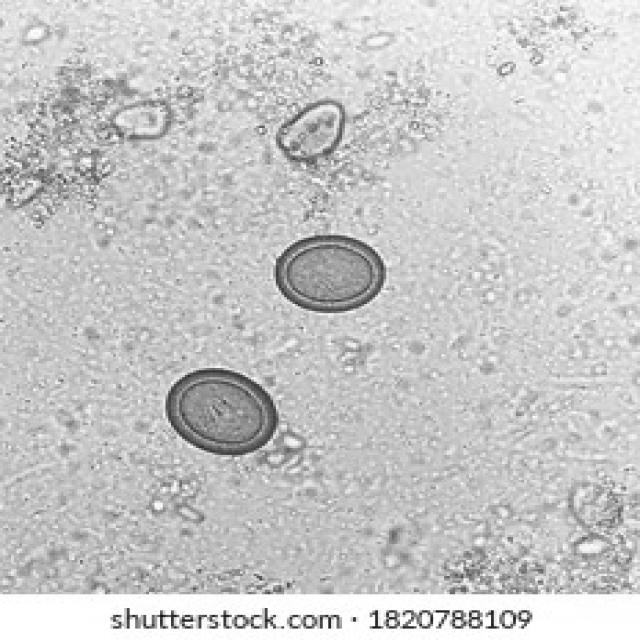Taenia Sp: (145, 360, 294, 463), (264, 224, 398, 315)
